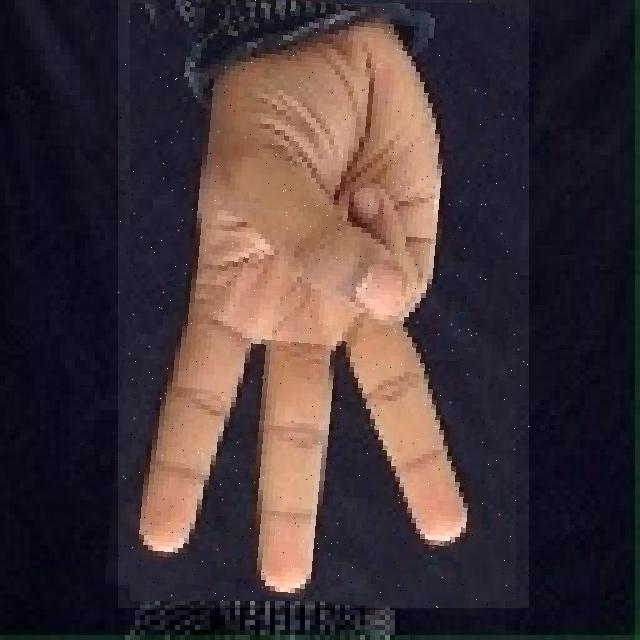Please: (118, 0, 529, 608)
